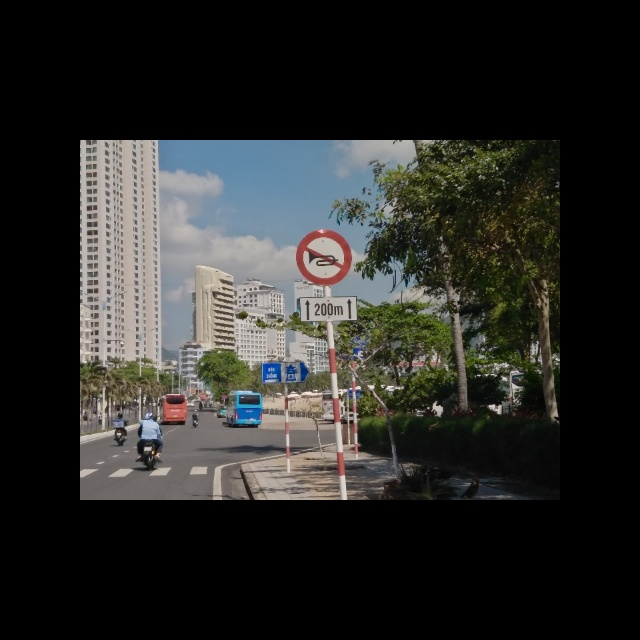Cấm bấm còi: (295, 230, 352, 285)
